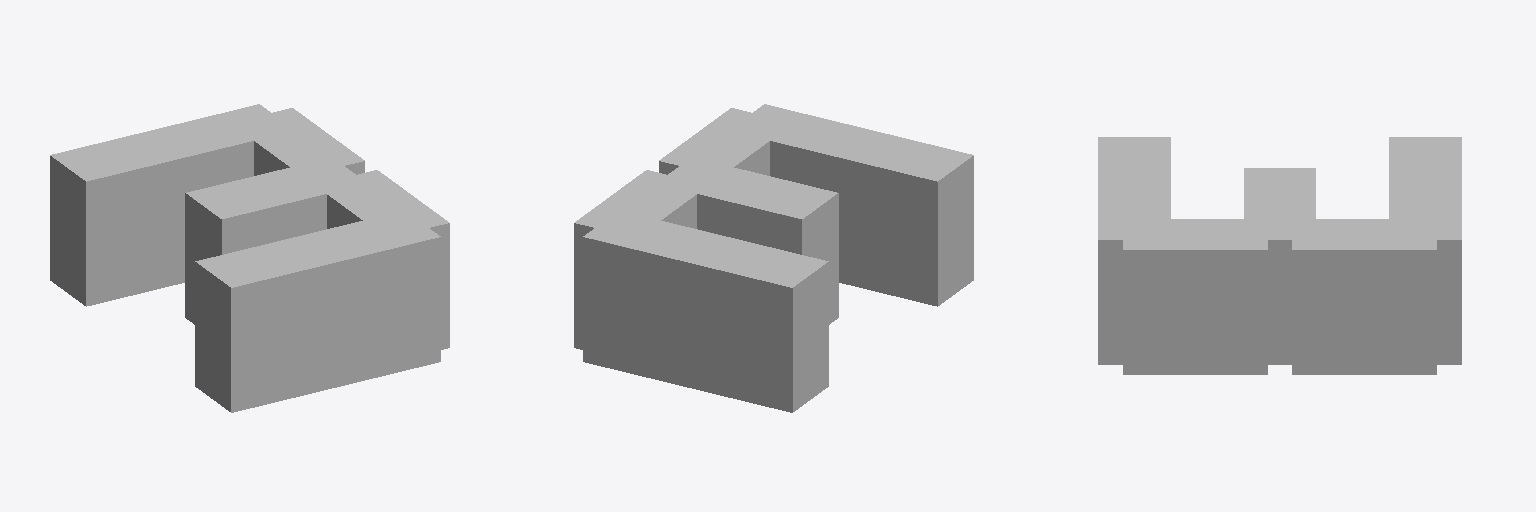
Rendered from num_3.obj.
3 views of the same model, side by side, from view 1: azimuth 30°, elevation 25°; view 2: azimuth 150°, elevation 25°; view 3: azimuth 270°, elevation 25° (orthographic).
Parts seen in each view (by area): view 1: Text; view 2: Text; view 3: Text.
Boxes of the visible parts, <box> form: Text: <box>50,104,449,412</box>; Text: <box>574,104,973,412</box>; Text: <box>1098,137,1461,374</box>.
Size of the model in its own units: 0.5789 by 0.3 by 0.7895.